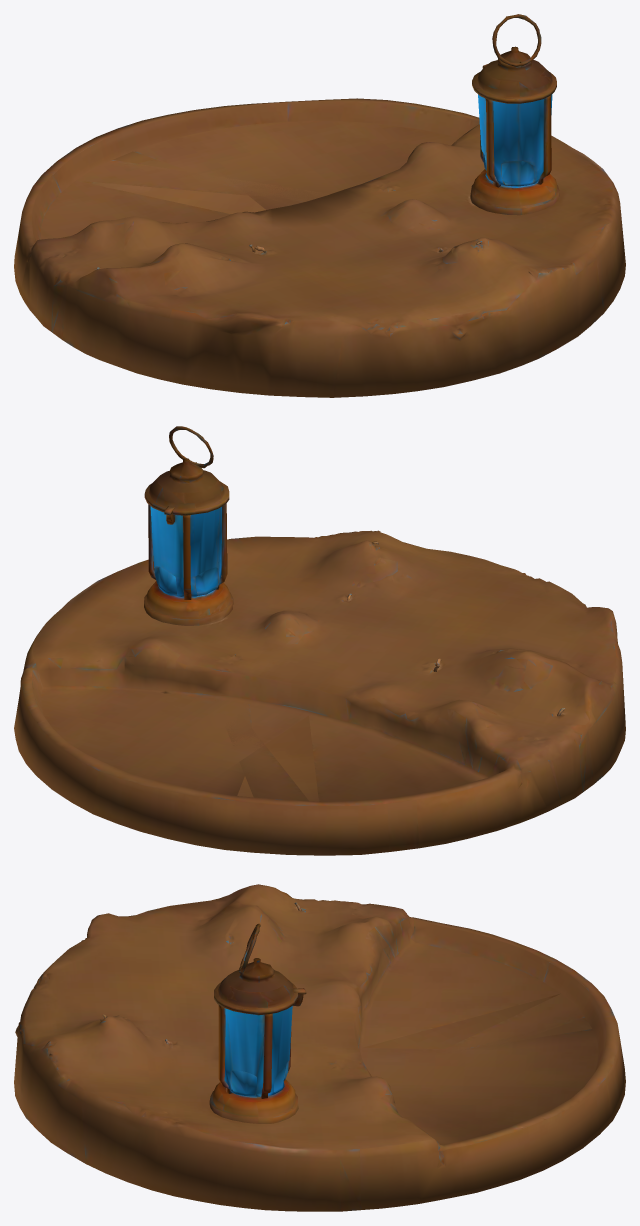
Rendered from base-night.0f4e4761.glb.
3 views of the same model, one above another, from view 1: azimuth 30°, elevation 25°; view 2: azimuth 150°, elevation 25°; view 3: azimuth 270°, elevation 25° (orthographic).
Parts seen in each view (by area): view 1: tripo_node_ff7ddf86-e331-4657-9d70-2b89db6474b0; view 2: tripo_node_ff7ddf86-e331-4657-9d70-2b89db6474b0; view 3: tripo_node_ff7ddf86-e331-4657-9d70-2b89db6474b0.
Boxes of the visible parts, x1=… form: tripo_node_ff7ddf86-e331-4657-9d70-2b89db6474b0: x1=14, y1=14, x2=625, y2=397; tripo_node_ff7ddf86-e331-4657-9d70-2b89db6474b0: x1=14, y1=426, x2=625, y2=855; tripo_node_ff7ddf86-e331-4657-9d70-2b89db6474b0: x1=14, y1=884, x2=625, y2=1211.
Size of the model in its own units: 0.998 by 0.4238 by 0.998.
1 material, 1 textured.
